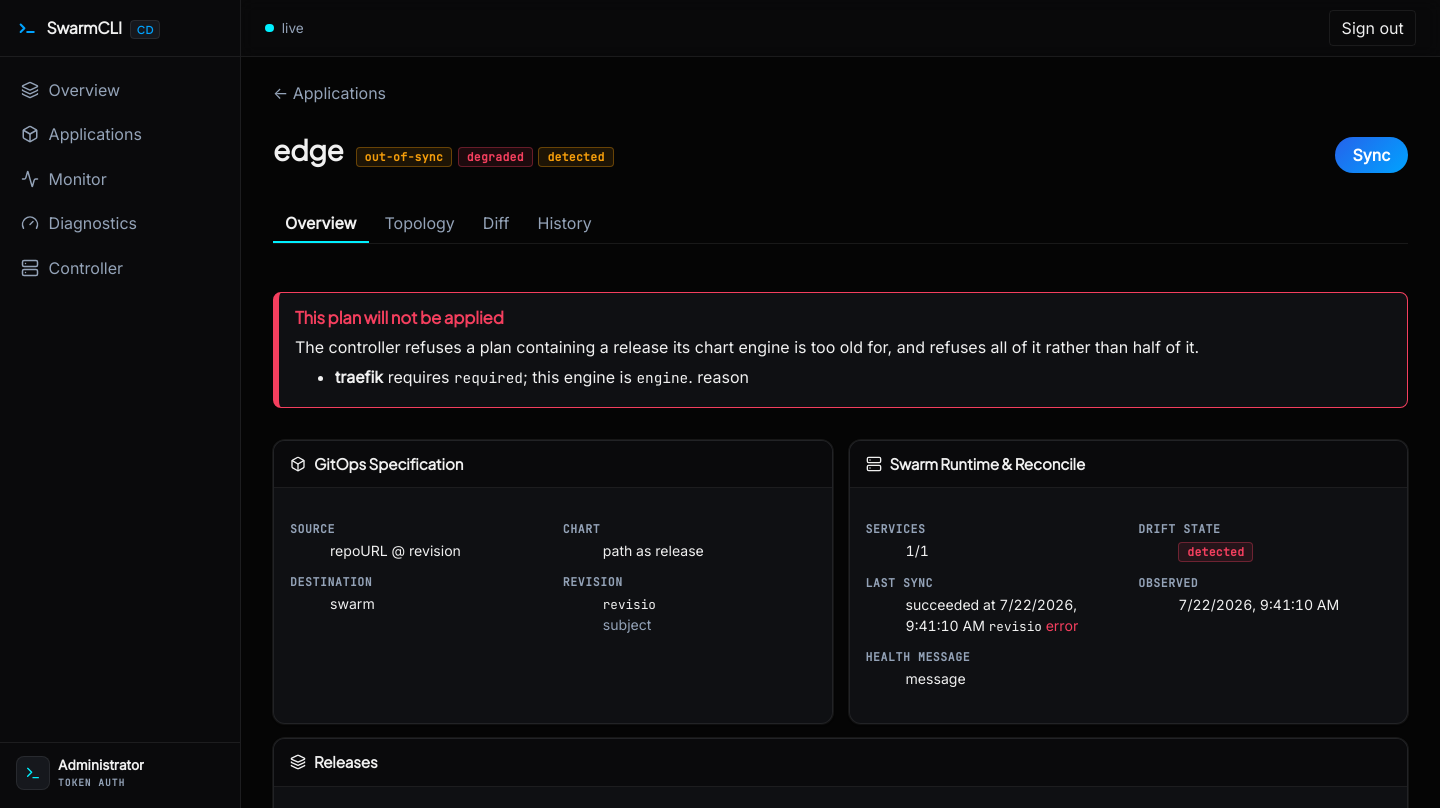
Test case: the sync button › reads a 403 as not permitted rather than as a failed sync
This screenshot has width=1440, height=808.
Click the button "Sync".
click(1372, 155)  # box [1335,137,1408,173]
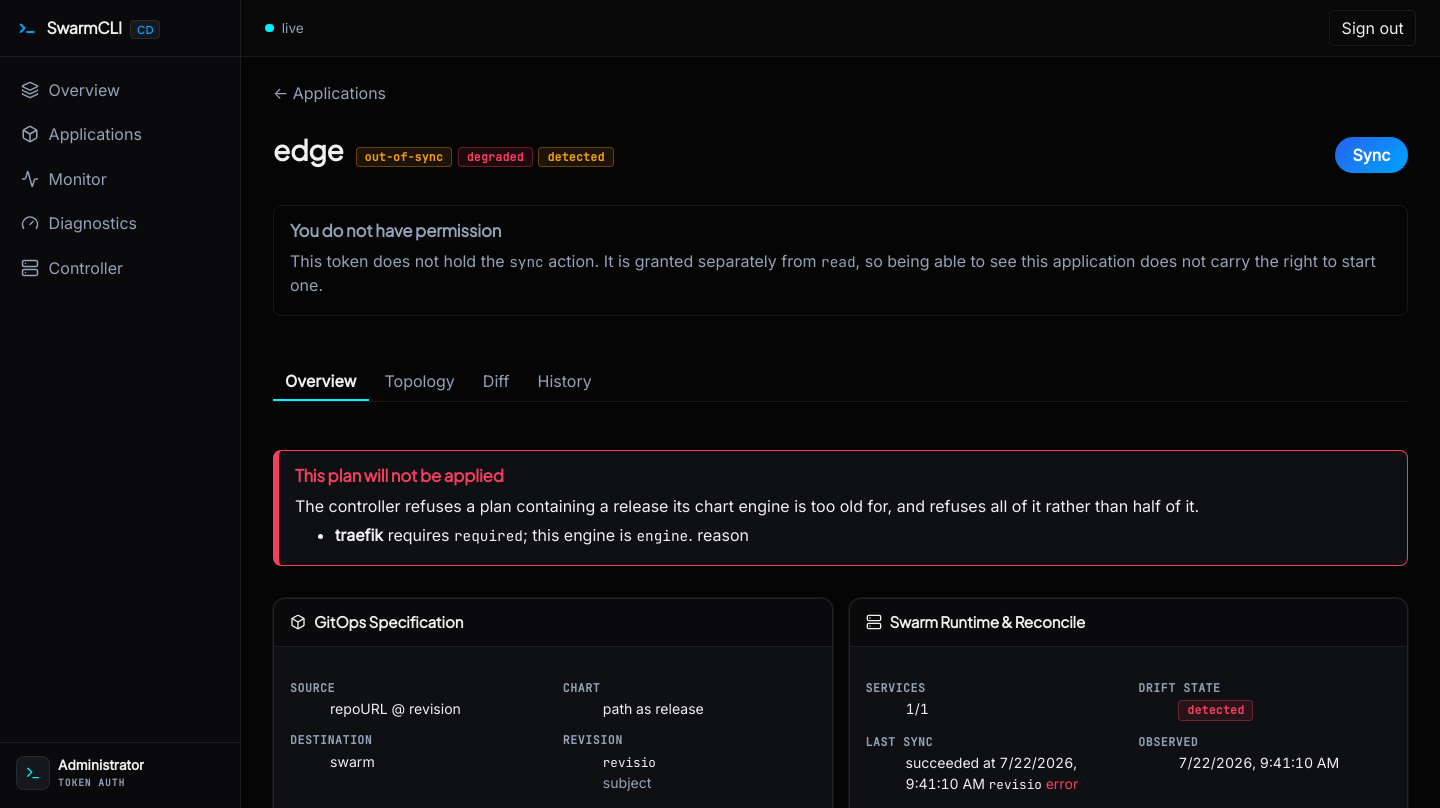
Expected: the message with test id "forbidden" shows "do not have permission", [290,220,501,241]
Expected: the message with test id "forbidden" shows "granted separately", [544,251,816,271]
